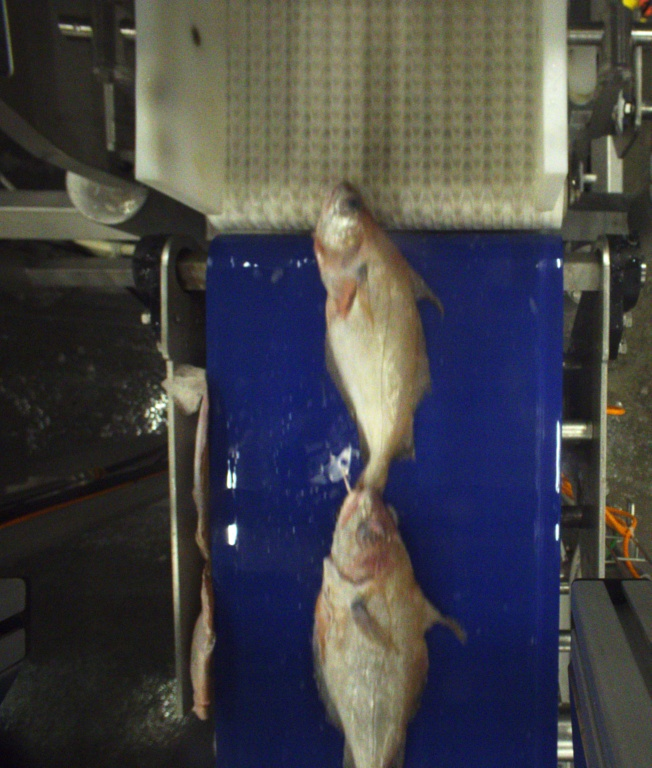BIB: (312, 178, 430, 522)
